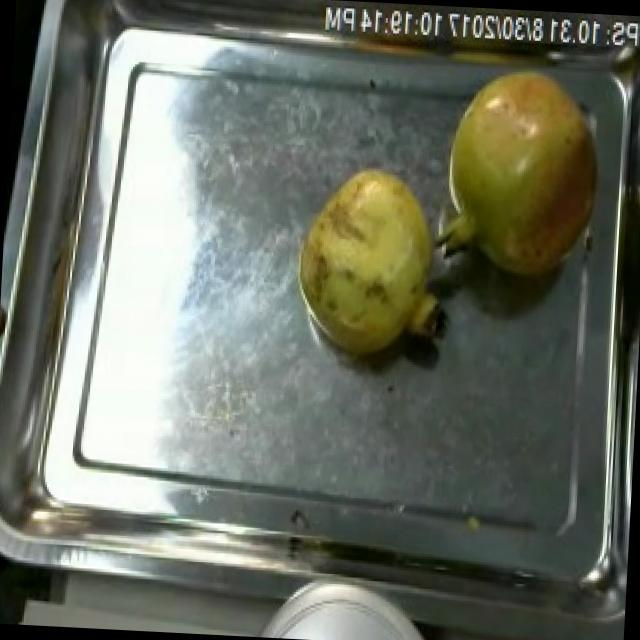fruit: (430, 58, 608, 290), (288, 154, 452, 366)
